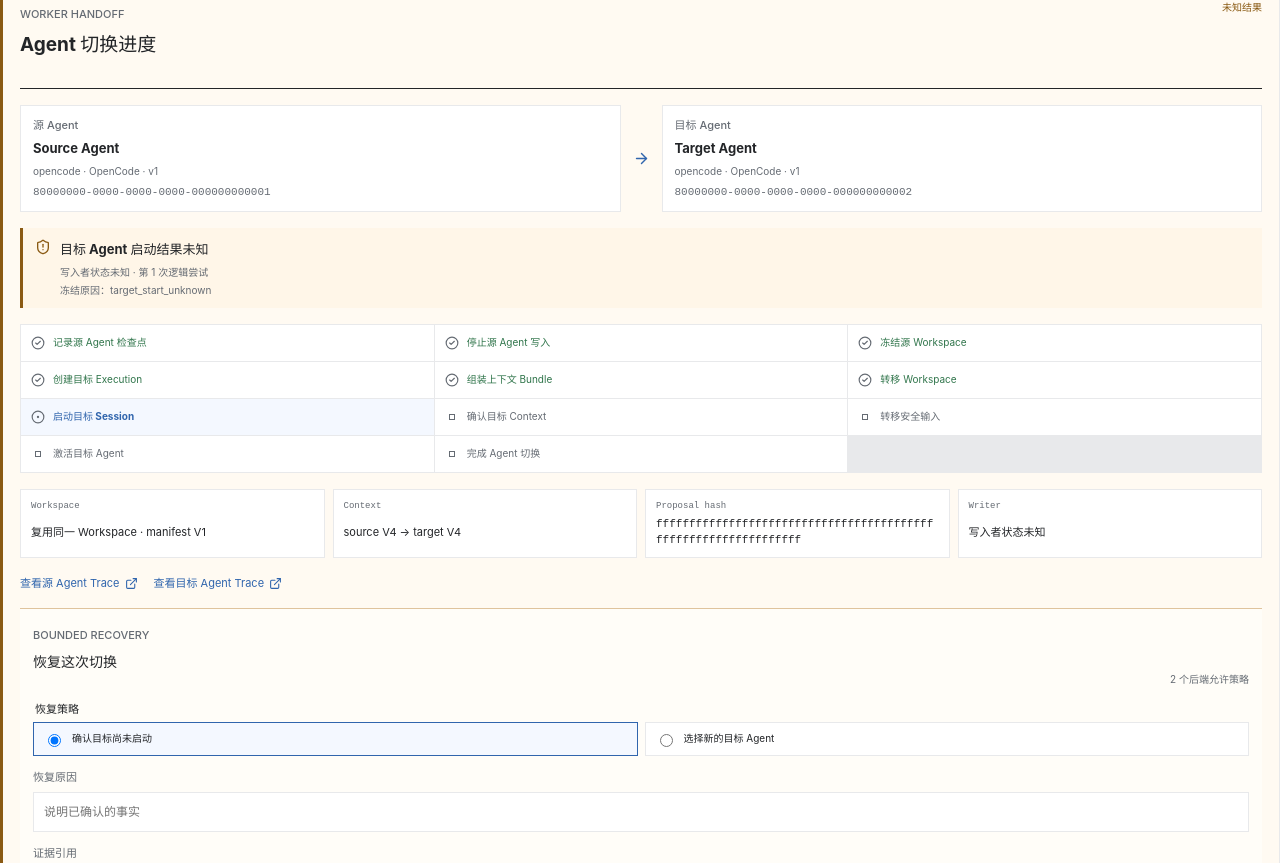
Scenario: HandoffProgress › shows only backend-allowed recovery strategies
The image size is (1280, 863).
Expected: the text "确认目标尚未启动" is shown, x1=72 y1=731 x2=152 y2=745
Expected: the text "选择新的目标 Agent" is shown, x1=684 y1=731 x2=774 y2=745
Type "已核对目标边界" into the field labelled "恢复原因" at point(641, 812), box x1=33 y1=792 x2=1249 y2=832
(page scrolled)
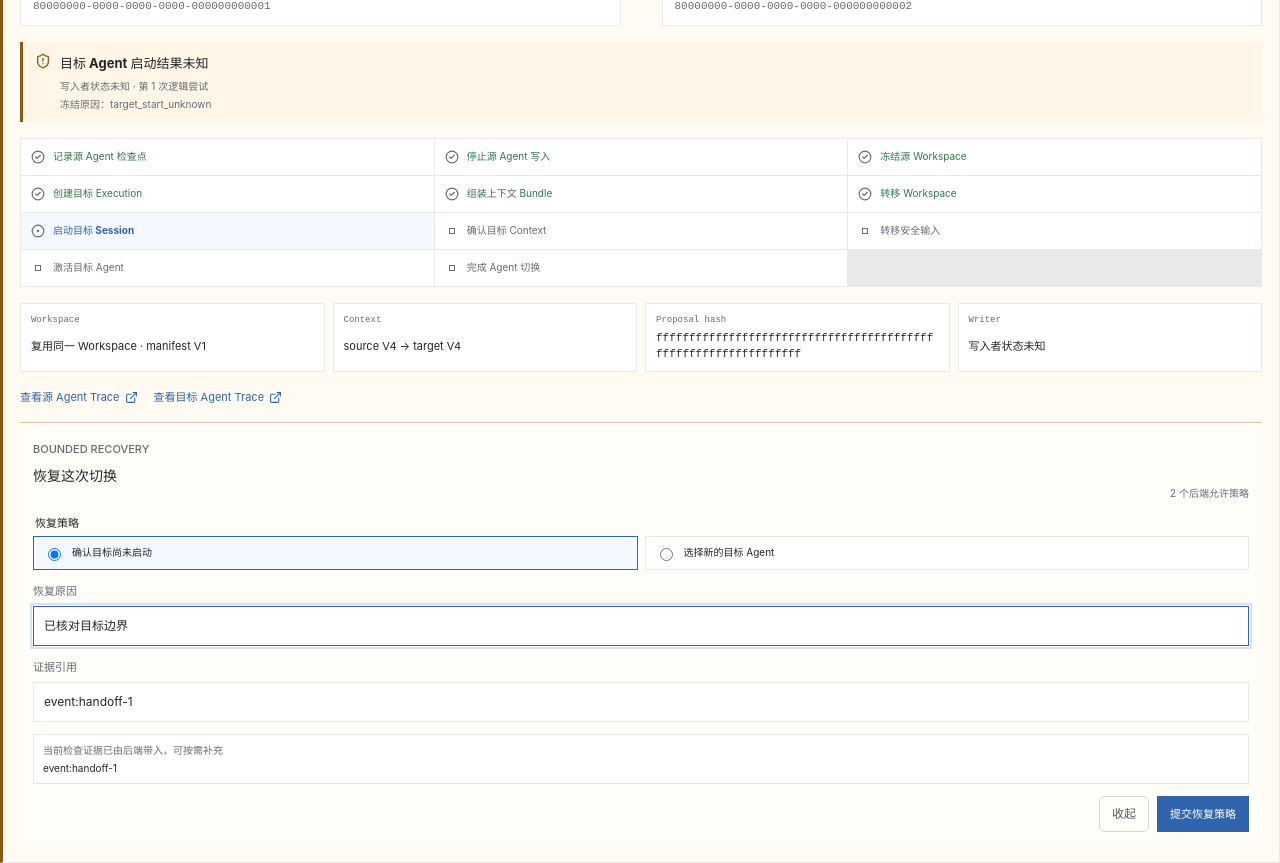
Type "event:handoff-2" into the field labelled "证据引用" at point(641, 702), box x1=33 y1=682 x2=1249 y2=722
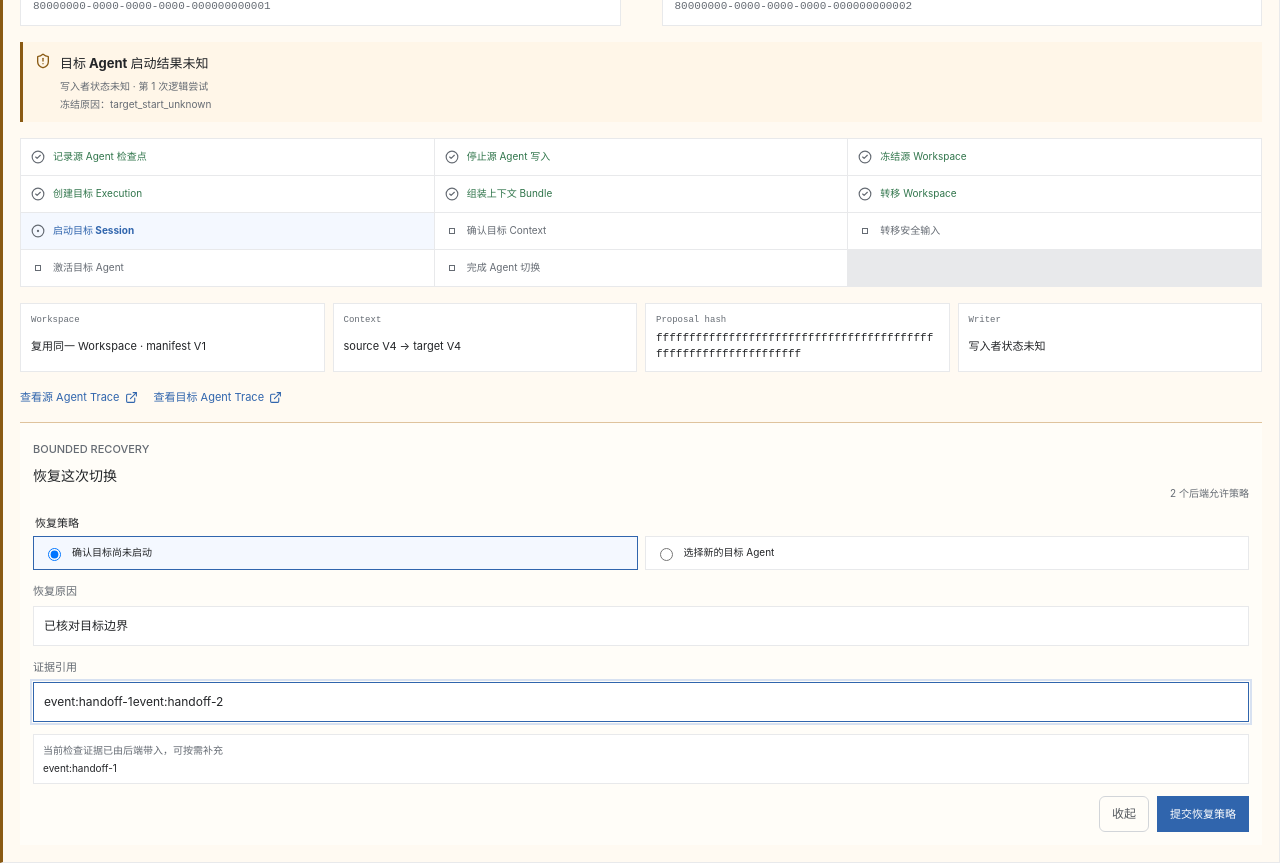
Click the button "提交恢复策略" at point(1203, 814), box x1=1157 y1=796 x2=1249 y2=832
(page scrolled)
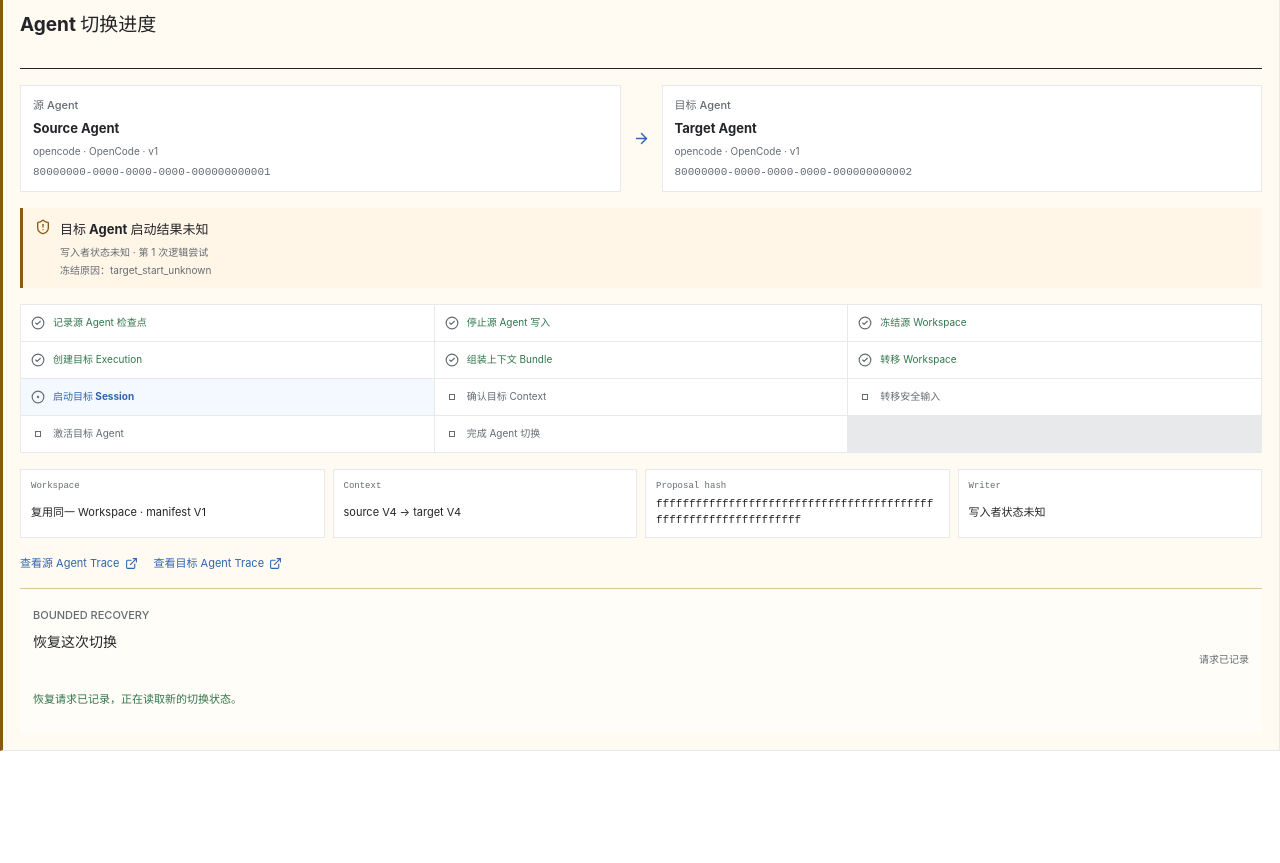
Expected: the text "恢复请求已记录，正在读取新的切换状态。" is shown, x1=33 y1=692 x2=242 y2=706
